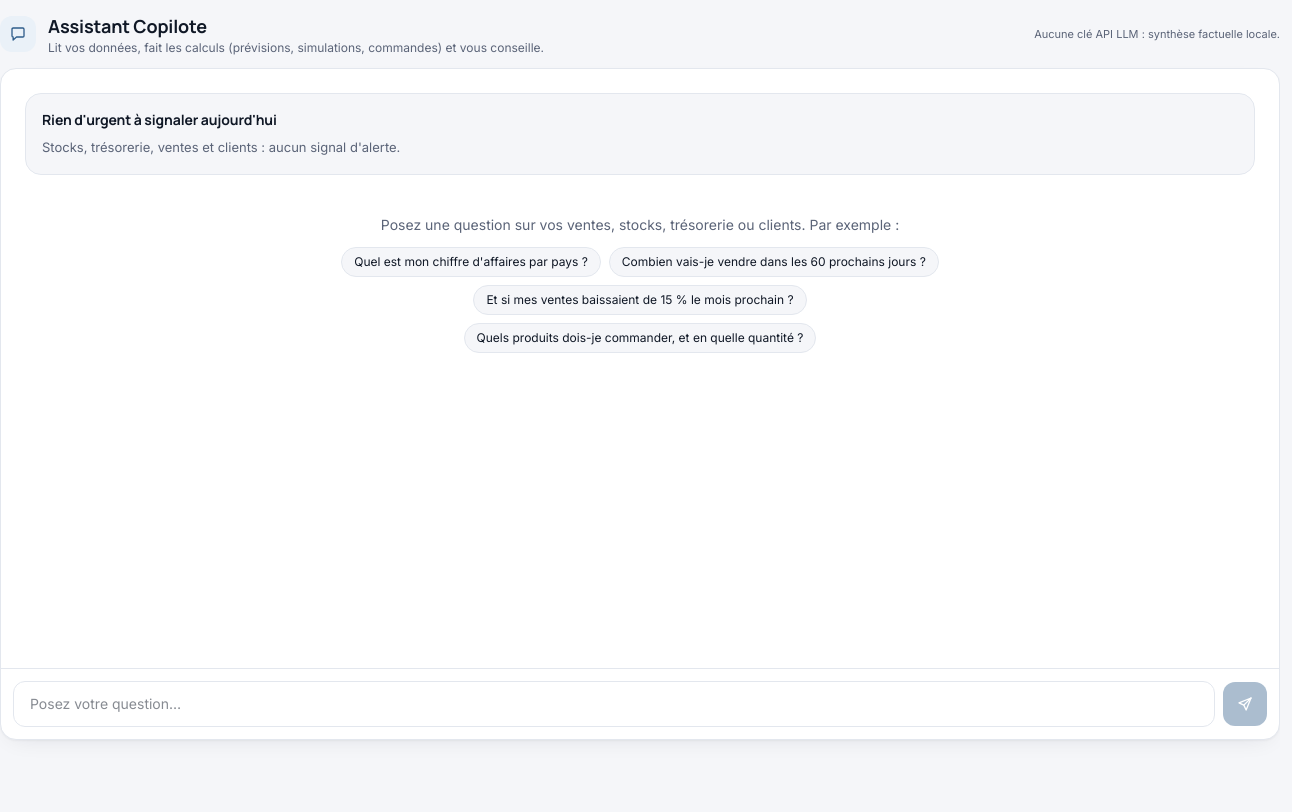
Scenario: signale la synthèse de secours quand le LLM est en échec
Type "Mon CA ?" into the field with placeholder "Posez votre question…" at (614, 704), box [13,681,1215,727]
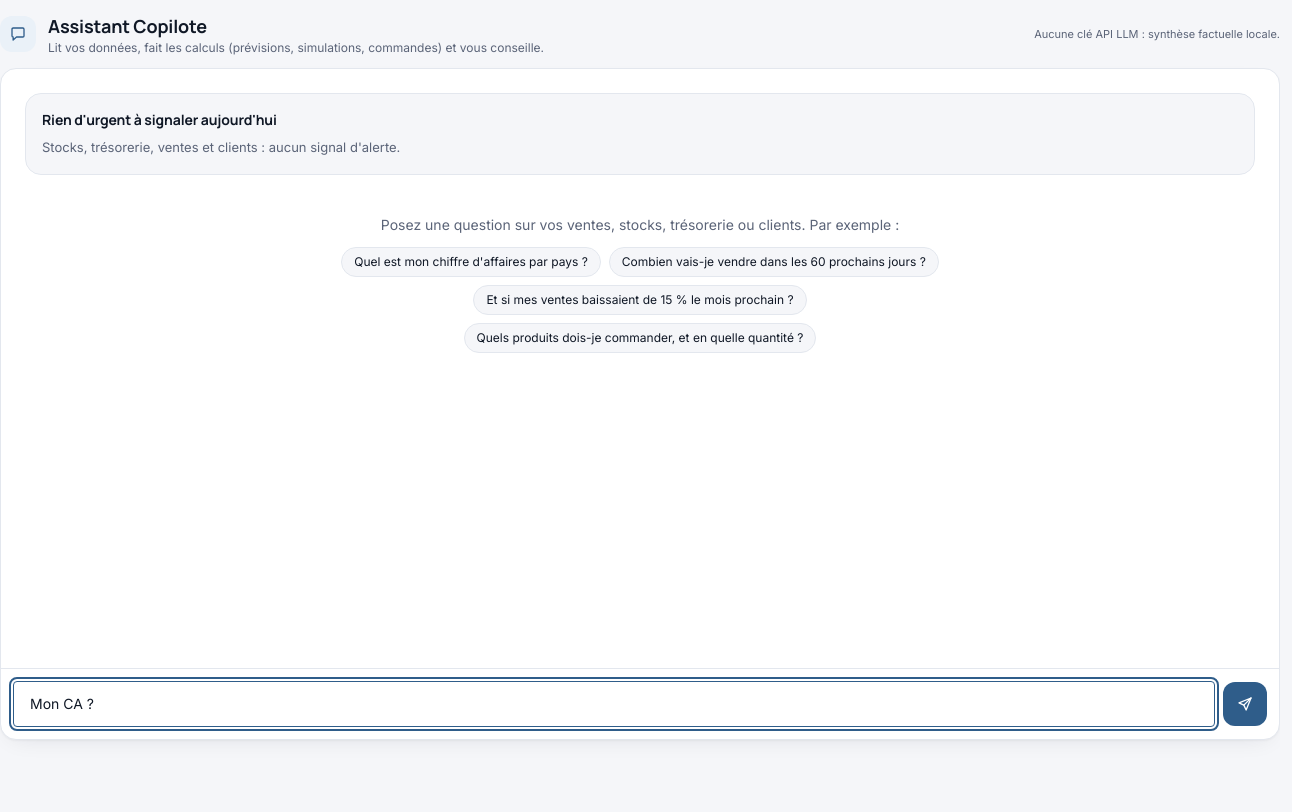
Click the button named "envoyer" at (1245, 704), box [1223,682,1267,726]
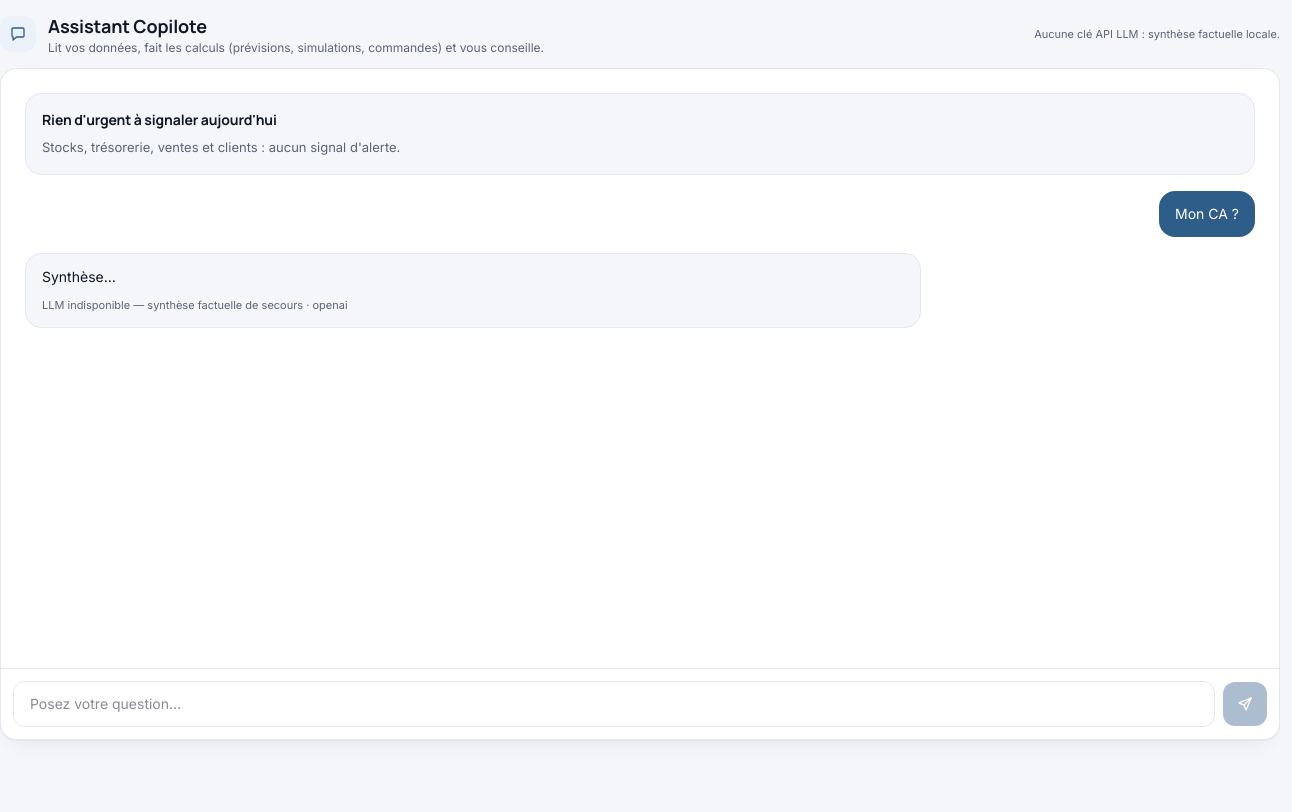
Now the text with test id "origine-reponse" shows "LLM indisponible", box [42,298,303,312]
